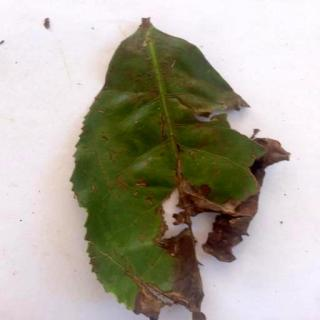Brown Blight: (71, 18, 293, 320)
